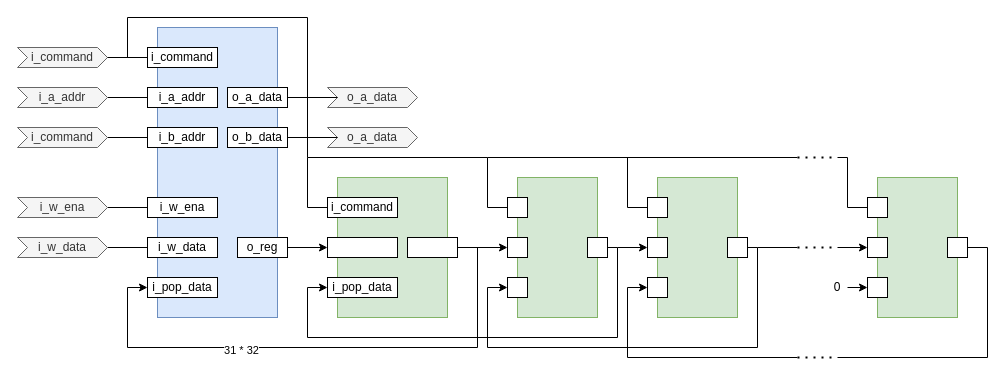
This 1006x383 diagram has some shape labels left out. Each missing label, with the centre of its shape:
i_push_data: pixel 362 247
o_data: pixel 432 247
